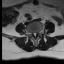CCS_normal: (34, 31, 36, 39)
LFS_severe_stenosis: (36, 29, 38, 36)
LLS_stenosis: (35, 31, 36, 36)
RFS_stenosis: (30, 30, 32, 36)
RLS_stenosis: (32, 30, 34, 36)
